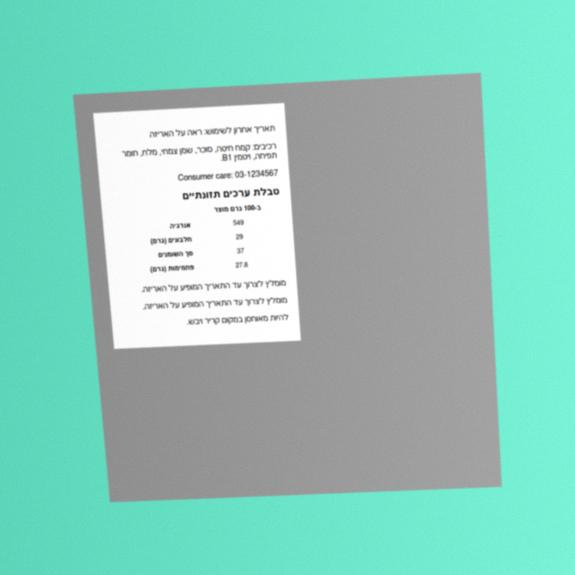carbs: (234, 261, 249, 270)
energy: (232, 218, 245, 227)
fat: (236, 247, 245, 255)
protein: (235, 233, 244, 241)
